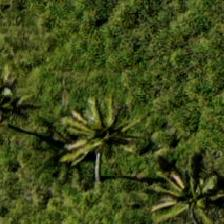Kelapa_Sawit: (45, 94, 135, 184), (0, 62, 52, 152), (171, 162, 223, 223)
